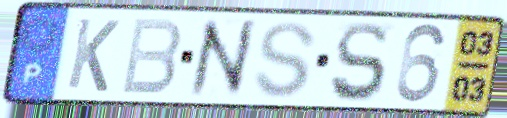6: (394, 21, 448, 106)
B: (118, 16, 184, 97)
K: (63, 15, 123, 95)
N: (187, 16, 258, 101)
S: (251, 19, 319, 101), (328, 19, 391, 105)
